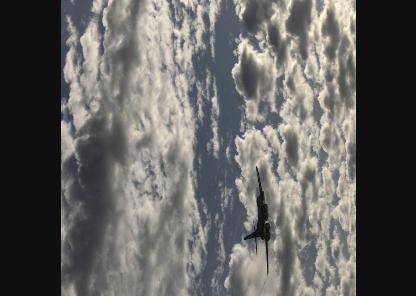AV8B: (242, 166, 270, 276)
